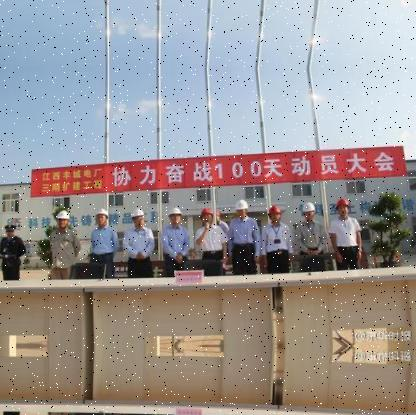helmet: (162, 205, 183, 225), (128, 203, 145, 227), (331, 195, 349, 216), (198, 202, 214, 225), (264, 202, 282, 222), (53, 208, 69, 230), (231, 197, 248, 217), (93, 206, 108, 228), (300, 201, 317, 220)
